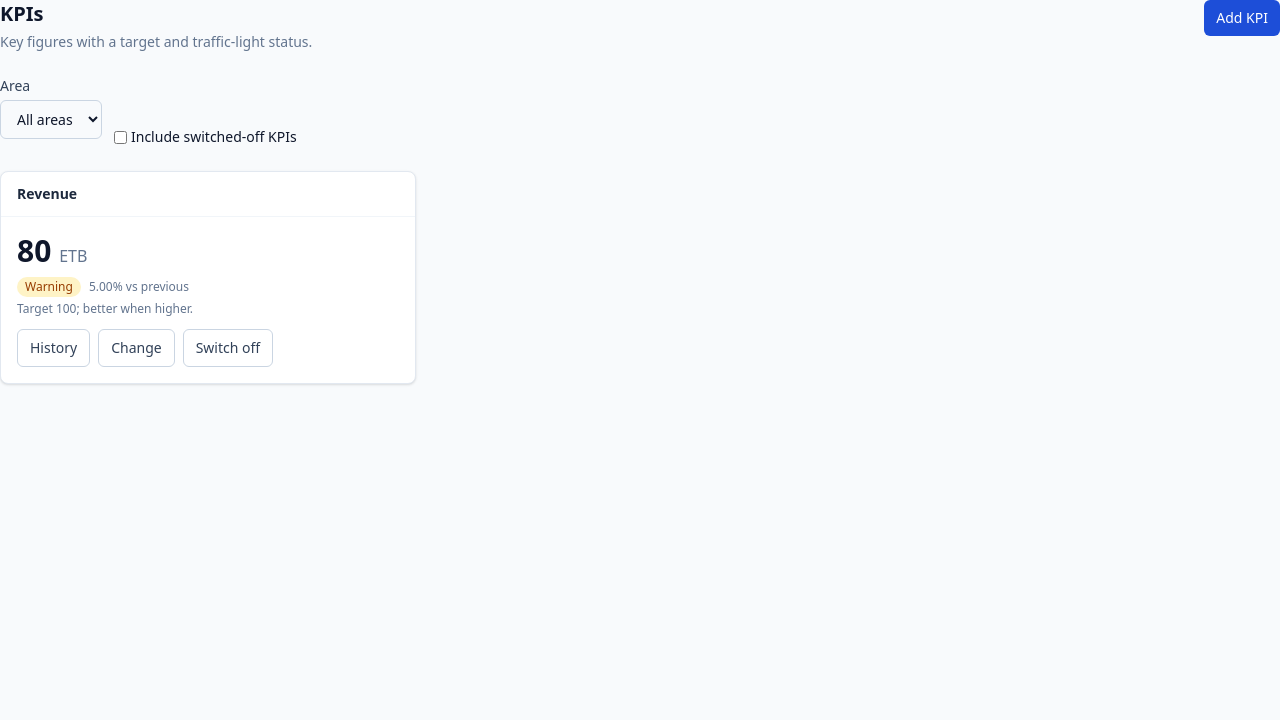
Test: KpisPage › changes a KPI's levels (server refusal shown), switches it off, and shows its history
Later steps or results of the test are not shown.
Click the button with aria-label "History of Revenue" at (54, 348), box [17,329,90,367]
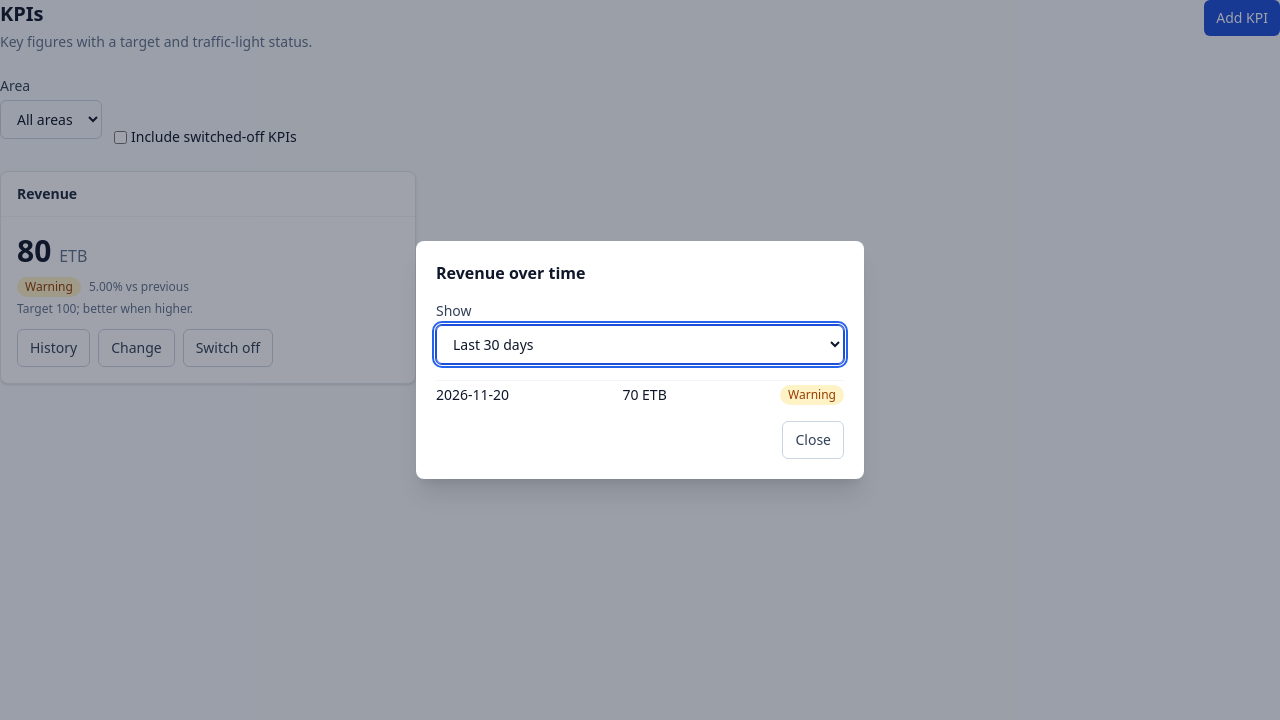
expect the text "2026-11-20" is shown: met, box [436,385,509,405]
Click the button "Close" at (813, 440), box [782,421,844,459]
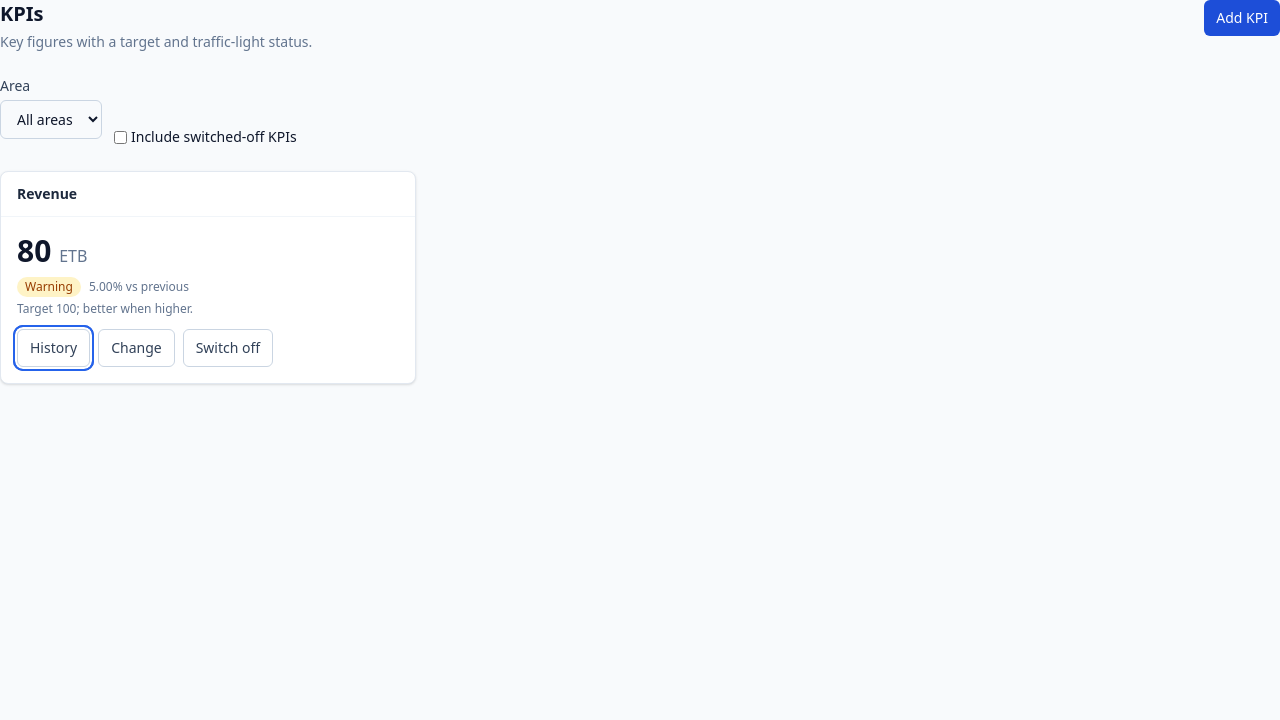
Click the button with aria-label "Change Revenue" at (136, 348), box [98,329,175,367]
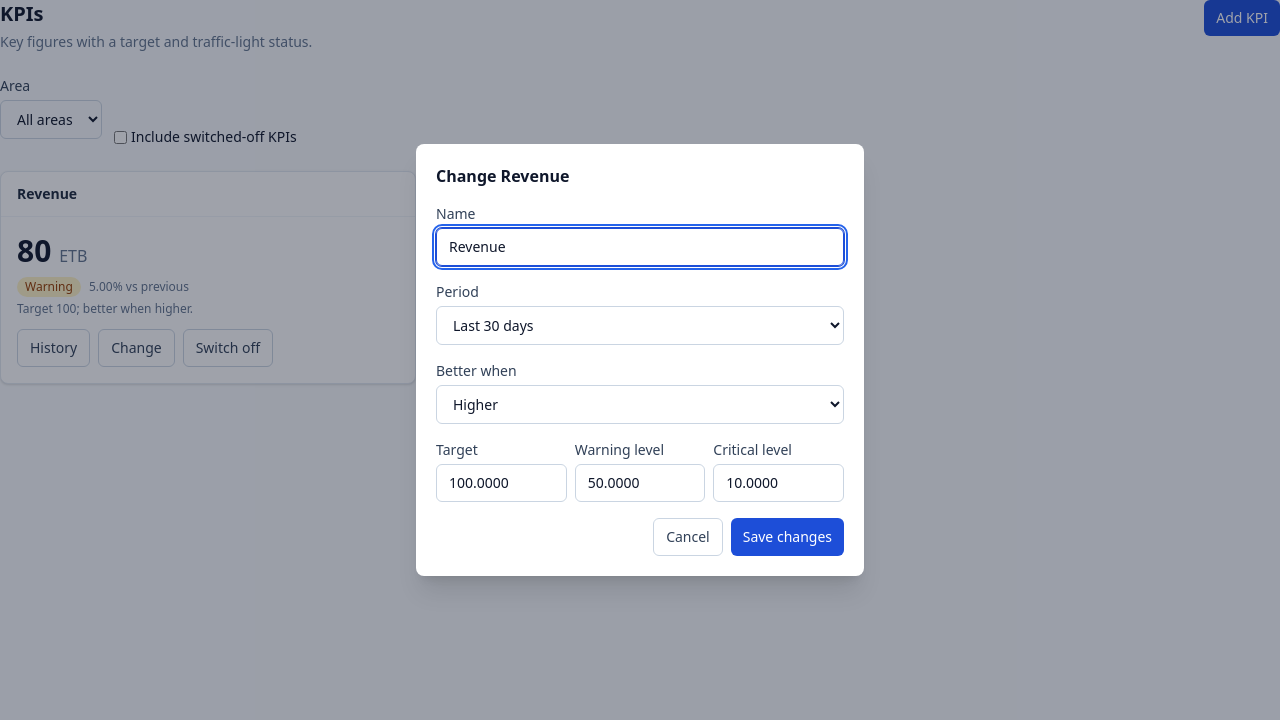
expect the field labelled "Target" holds "100.0000": met
Replace the text in the field labelled "Target" with "120" at (501, 483), box [436,464,567,502]
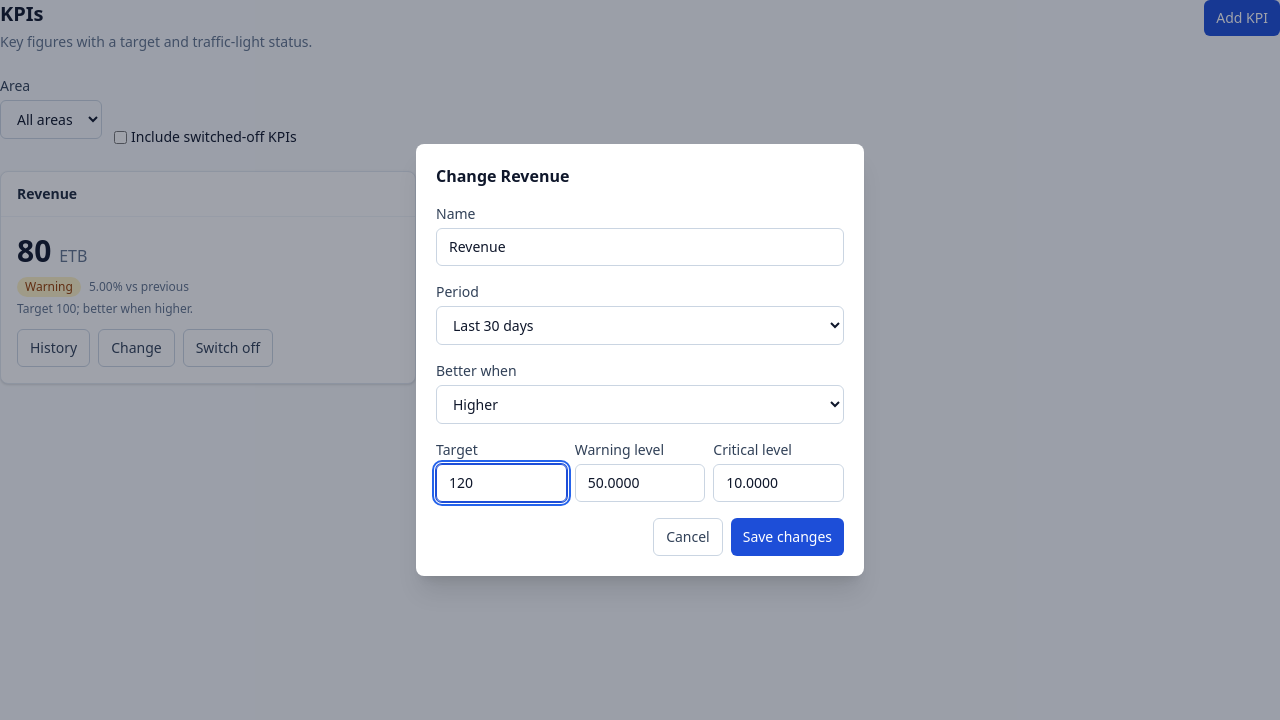
Click the button "Save changes" at (787, 537), box [731,518,844,556]
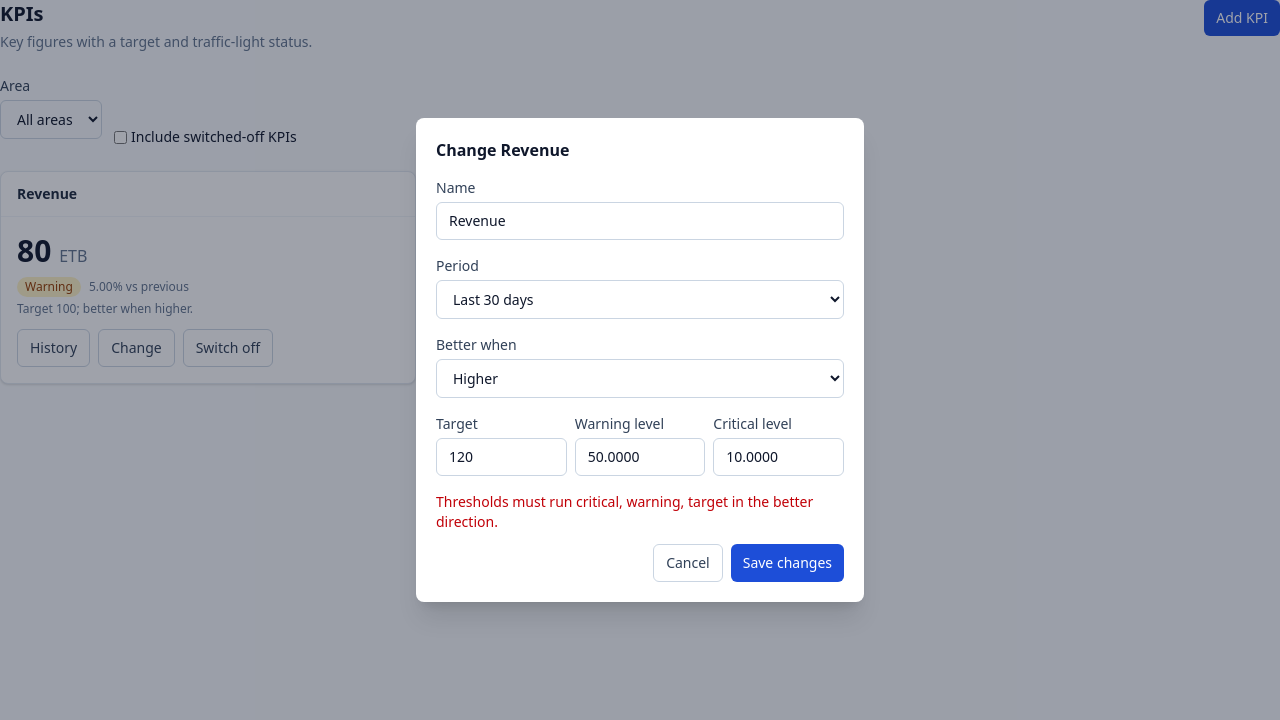
expect the text "Thresholds must run critical, warning, target in the better direction." is shown: met, box [436,492,844,532]
